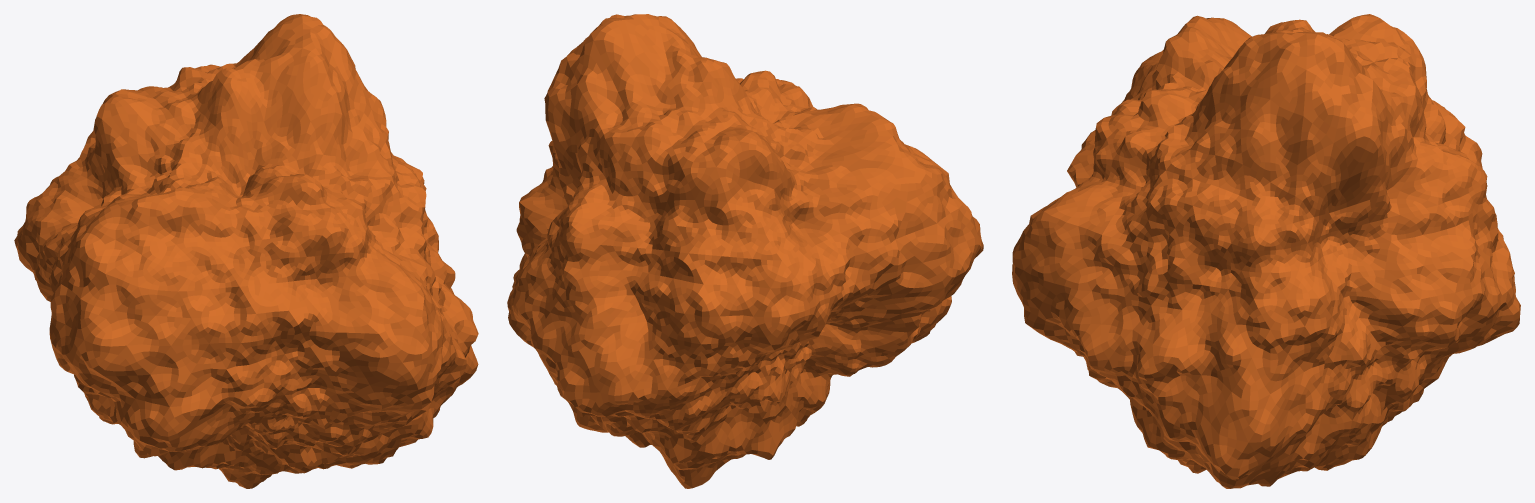
The model's file is karaage.fbx.
The picture shows the model from 3 angles, left to right: view 1: azimuth 30°, elevation 25°; view 2: azimuth 150°, elevation 25°; view 3: azimuth 270°, elevation 25°; orthographic projection. The views are drawn at different scales.
Visible parts, largest first — view 1: Icosphere; view 2: Icosphere; view 3: Icosphere.
Boxes of the visible parts, left/top/right/bottom form: Icosphere: left=14, top=14, right=478, bottom=488; Icosphere: left=507, top=14, right=983, bottom=488; Icosphere: left=1012, top=14, right=1520, bottom=488.
Size of the model in its own units: 232 by 227 by 229.
